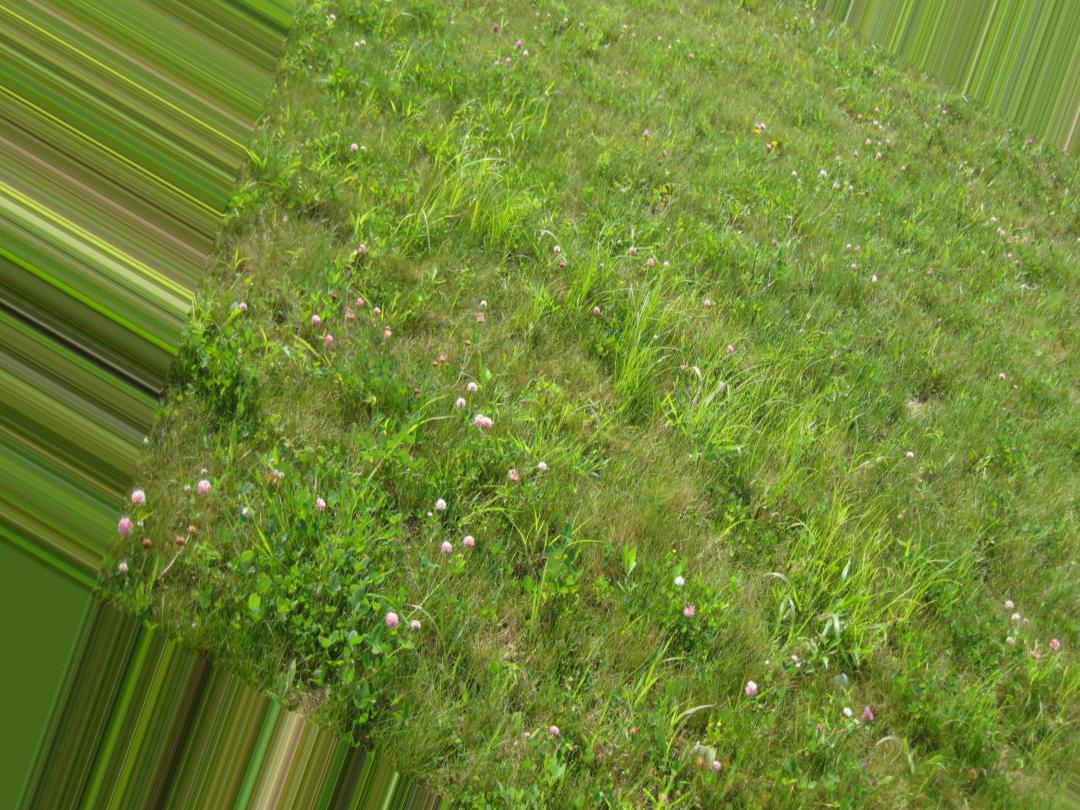patch: (190, 525, 192, 532)
